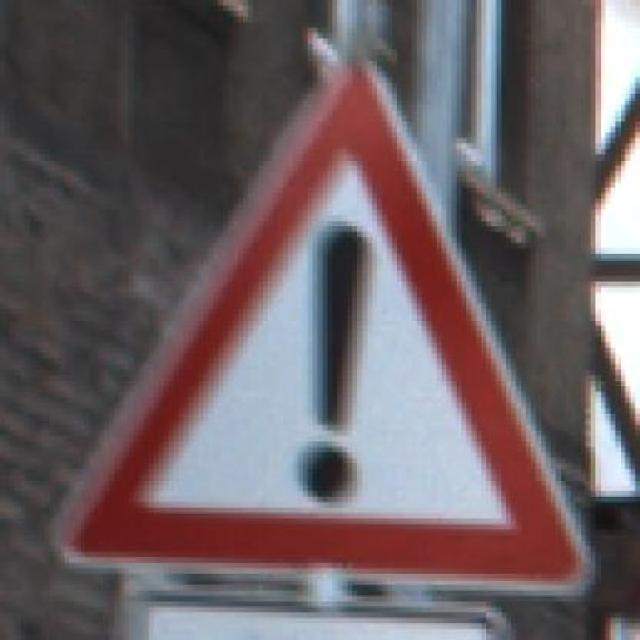Attention Please-: (39, 55, 626, 612)
